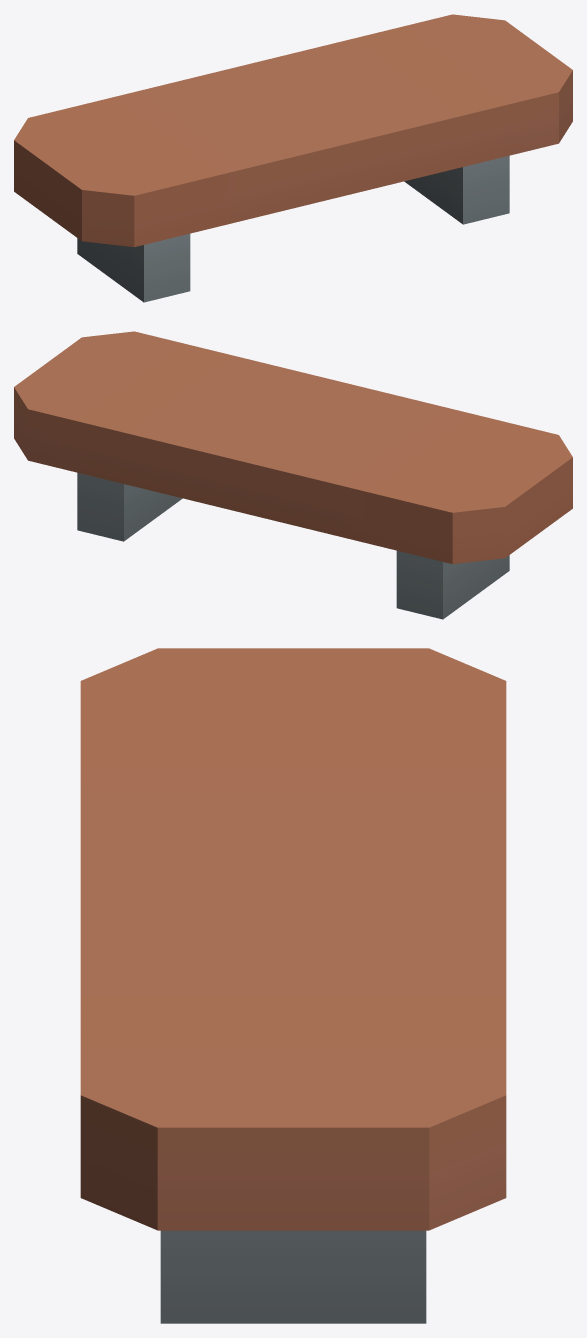
Rendered from kay-banco-rua.gltf.
3 renders of one model, top to bottom at view 1: azimuth 30°, elevation 25°; view 2: azimuth 150°, elevation 25°; view 3: azimuth 270°, elevation 25°, orthographic. The views are drawn at different scales.
Visible parts, largest first — view 1: bench; view 2: bench; view 3: bench.
Boxes of the visible parts, bbox=[...] form: bench: bbox=[14, 14, 572, 302]; bench: bbox=[14, 331, 572, 619]; bench: bbox=[80, 648, 506, 1323].
Bounding box in the file's own units: 2 × 0.5001 × 0.7501.
1 material, 1 textured.
